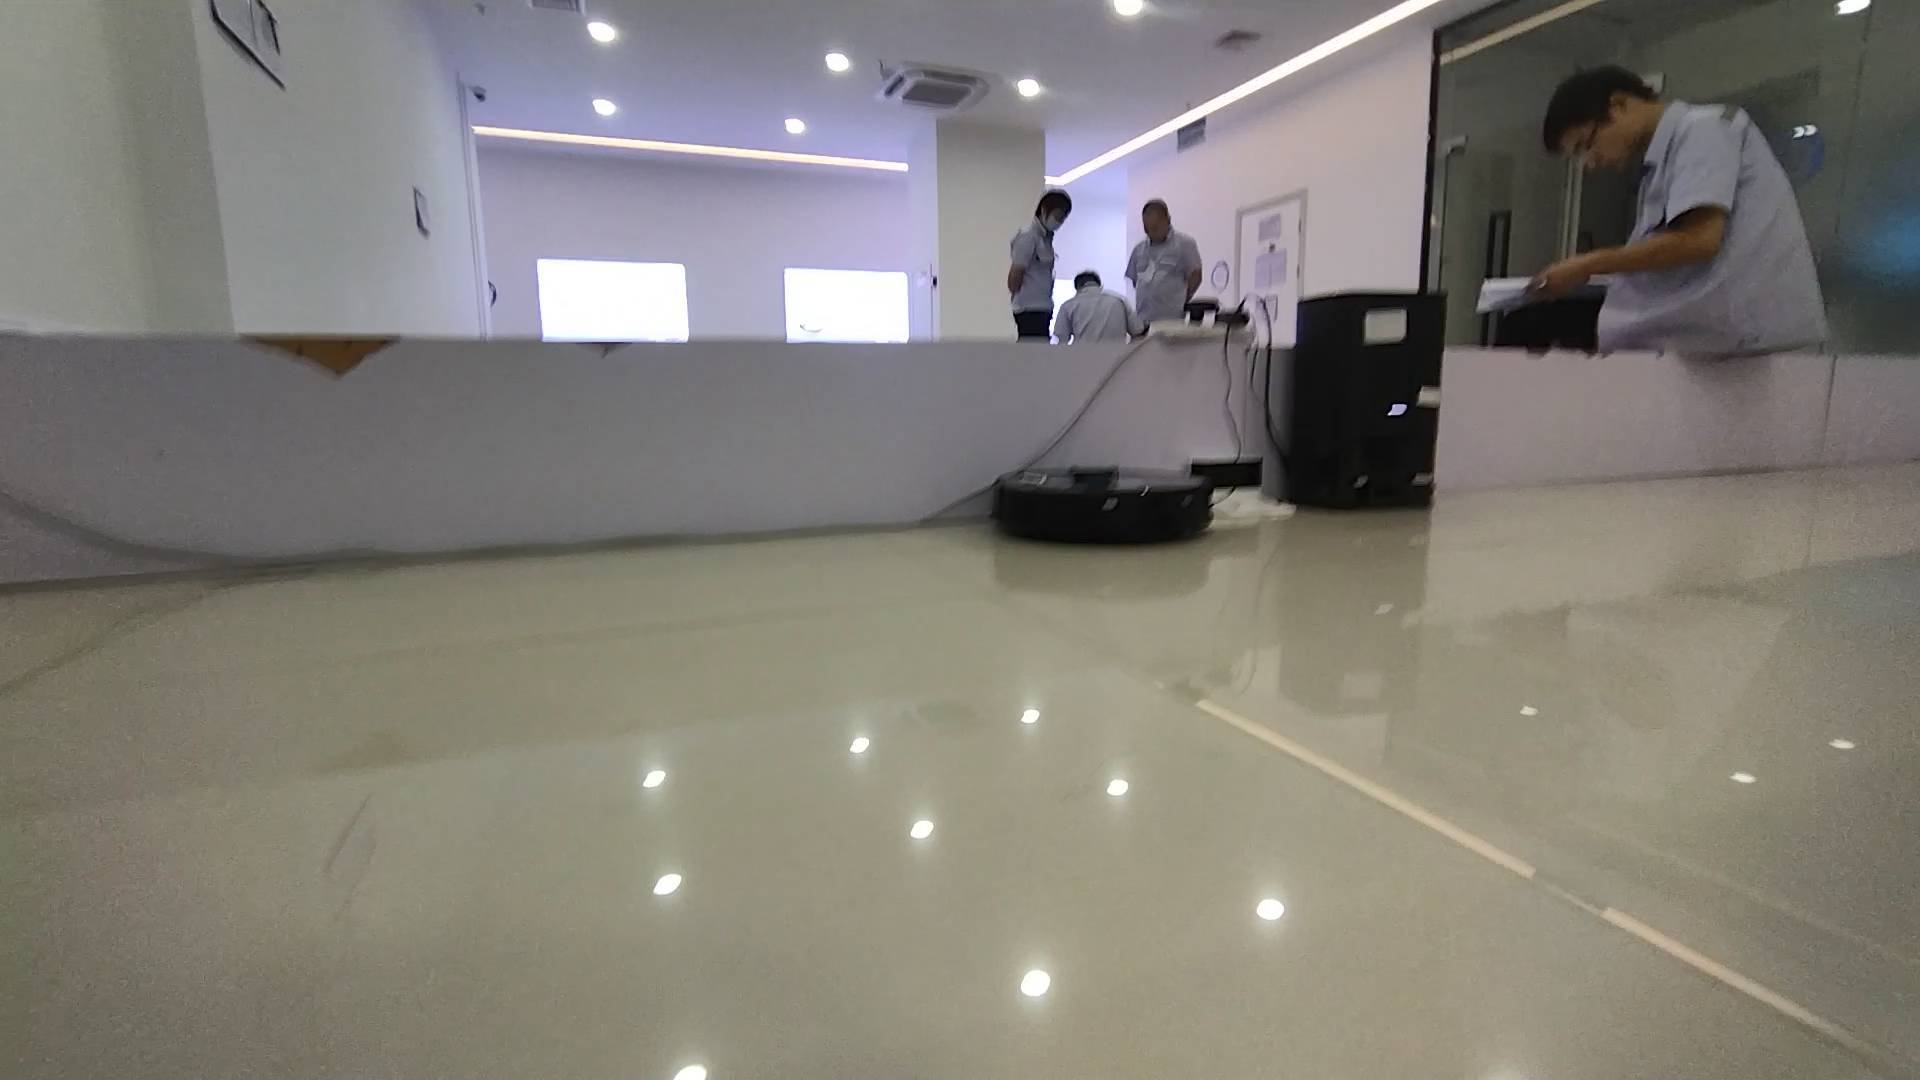dust collecting barrel: (1291, 291, 1440, 514)
recharge seat: (1185, 454, 1302, 516)
